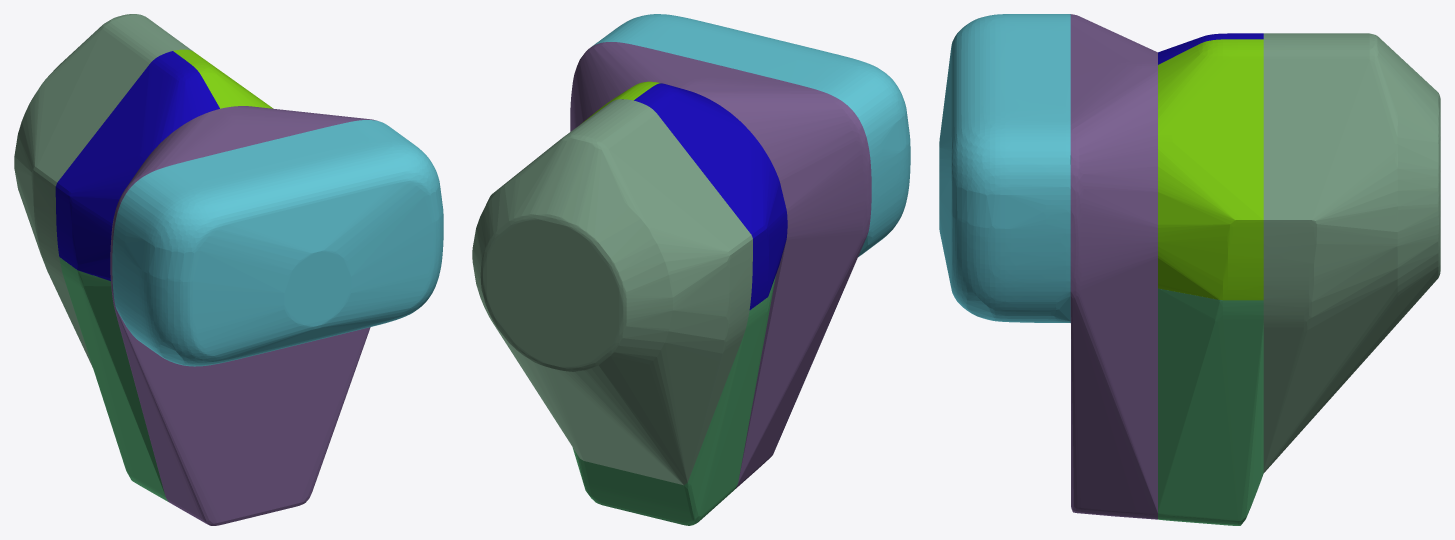
Rendered from gripper_base.obj.
3 renders of one model, left to right at view 1: azimuth 30°, elevation 25°; view 2: azimuth 150°, elevation 25°; view 3: azimuth 270°, elevation 25°, orthographic. The views are drawn at different scales.
Visible parts, largest first — view 1: geometry_2, geometry_1, geometry_0, geometry_5, geometry_3, geometry_4; view 2: geometry_0, geometry_1, geometry_2, geometry_5, geometry_3; view 3: geometry_0, geometry_1, geometry_2, geometry_4, geometry_3, geometry_5.
Part boxes in pixels (x1,y1,x2,y2): geometry_2: [112, 120, 443, 366]; geometry_1: [110, 106, 377, 525]; geometry_0: [14, 14, 192, 367]; geometry_5: [55, 51, 219, 280]; geometry_3: [59, 257, 168, 501]; geometry_4: [173, 49, 272, 108]; geometry_0: [472, 99, 752, 485]; geometry_1: [570, 42, 871, 488]; geometry_2: [592, 14, 910, 257]; geometry_5: [634, 83, 787, 309]; geometry_3: [572, 275, 775, 525]; geometry_0: [1263, 33, 1440, 472]; geometry_1: [1070, 14, 1157, 519]; geometry_2: [939, 14, 1070, 322]; geometry_4: [1158, 39, 1263, 300]; geometry_3: [1158, 288, 1263, 525]; geometry_5: [1158, 33, 1263, 64].
Bounding box in the file's own units: 0.1047 × 0.1415 × 0.1388.
